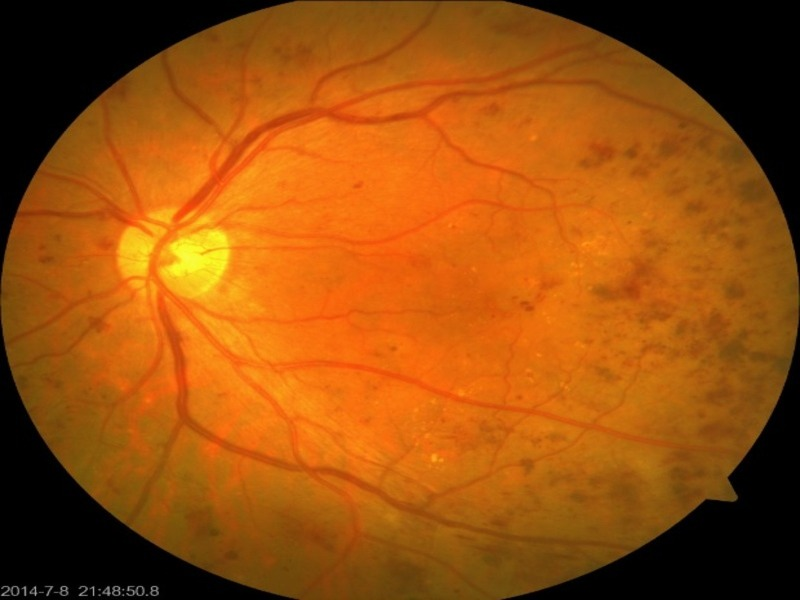Optic Cup: (168, 232, 230, 291)
Optic Disc: (115, 211, 230, 308)
